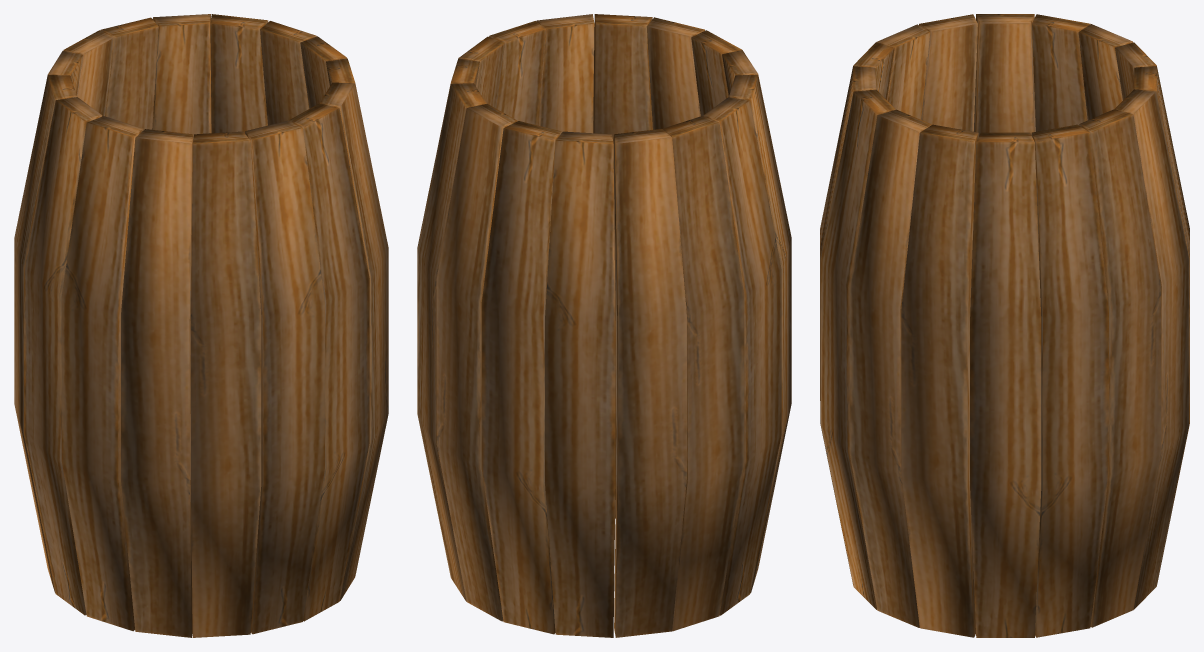
Rendered from barrel_1.fbx.
3 views of the same model, side by side, from view 1: azimuth 30°, elevation 25°; view 2: azimuth 150°, elevation 25°; view 3: azimuth 270°, elevation 25° (orthographic).
Visible parts, largest first — view 1: barrel_1; view 2: barrel_1; view 3: barrel_1.
Boxes of the visible parts, x1,y1,x2,y2 form: barrel_1: (14, 14, 388, 637); barrel_1: (417, 14, 791, 637); barrel_1: (820, 14, 1189, 637).
Size of the model in its own units: 0.9469 by 1.4 by 0.9468.
